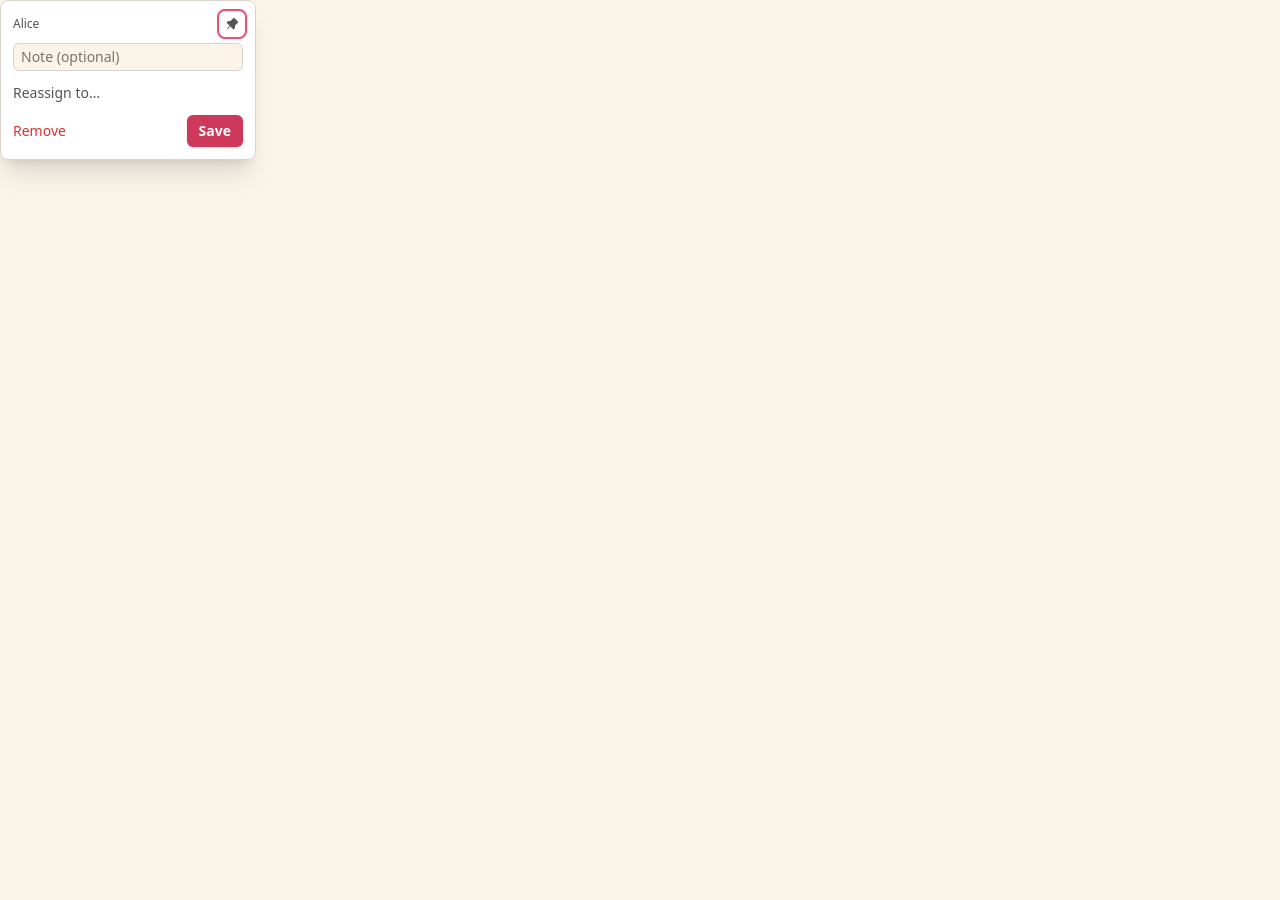
it: EditAssignmentPopover reassign › does not offer someone who is away that day
The width and height of the screenshot is (1280, 900).
Click the button with aria-label "Reassign".
click(128, 93)  # box [13, 83, 243, 103]
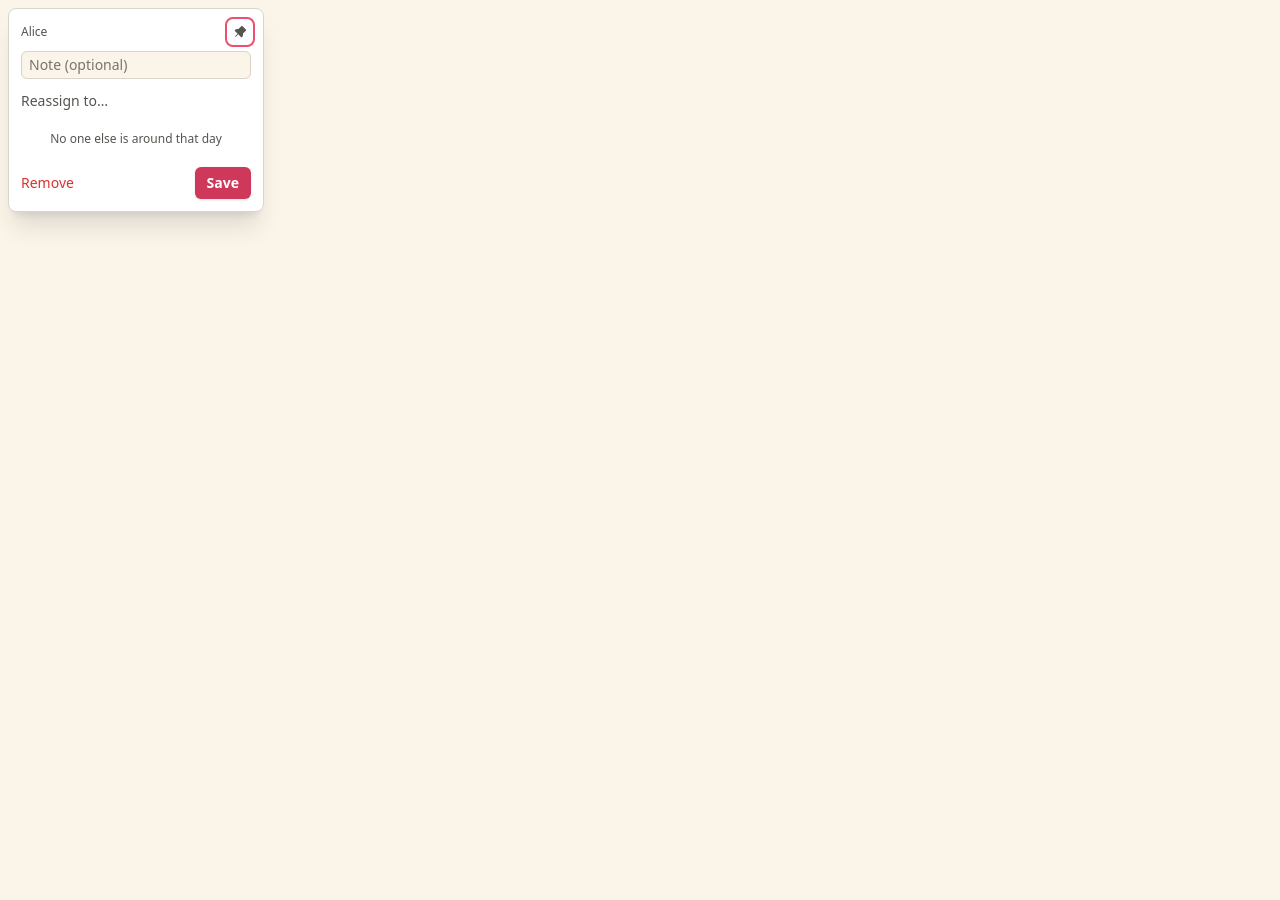
Expected: the text "No one else is around that day" is shown, [50, 130, 222, 147]
